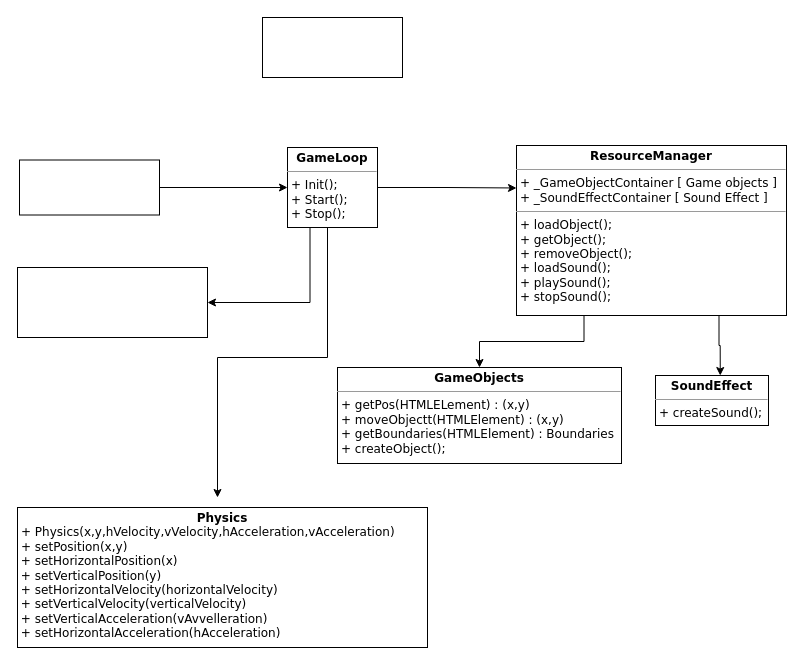
Image size: 804x665. Some labels were removed from this diagram. The centre of each missing label's shape, as x and y in pixels:
Collider + Collider(HTMLElement); + bool hasCollided(Collider C): the point at 112,302
HID + getInput(KeyCode): the point at 89,187
SpælDemo: the point at 332,47
